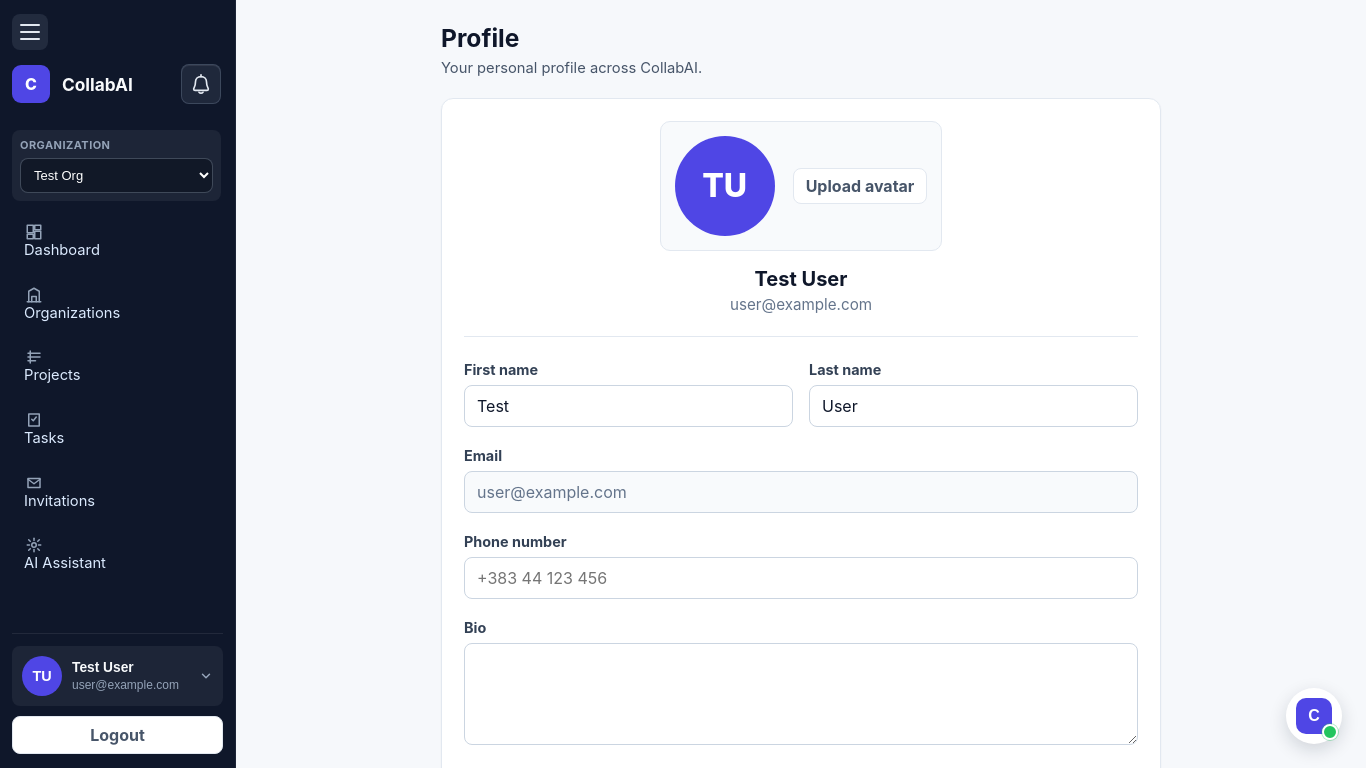
Profile settings › saves profile changes
Step 1. Replace the text in the field with id "first_name" with "Updated" → (629,406), box x1=464 y1=385 x2=793 y2=427
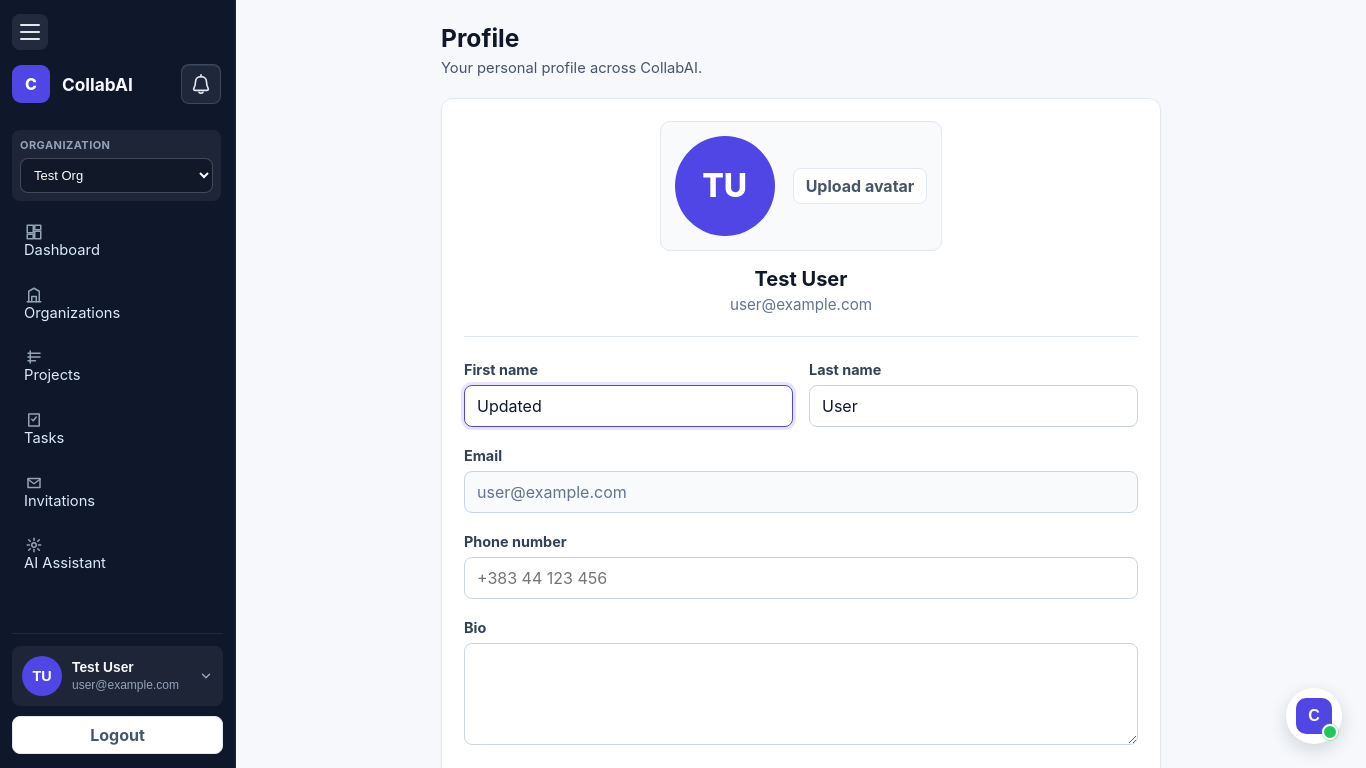
Step 2. Type "Focused on delivery" into the text box with id "bio" → (801,694), box x1=464 y1=643 x2=1138 y2=745
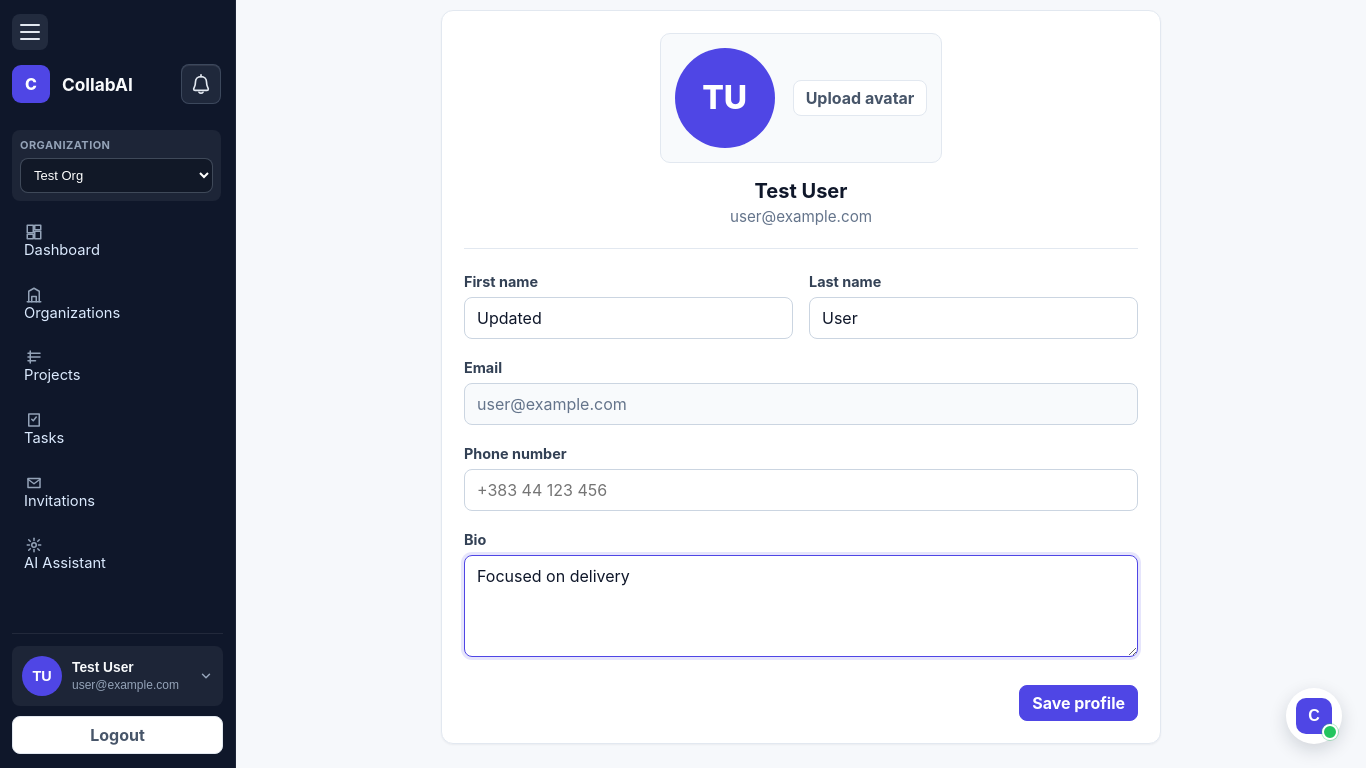
Step 3. Click the button "Save profile" → (1079,703), box x1=1019 y1=685 x2=1138 y2=721
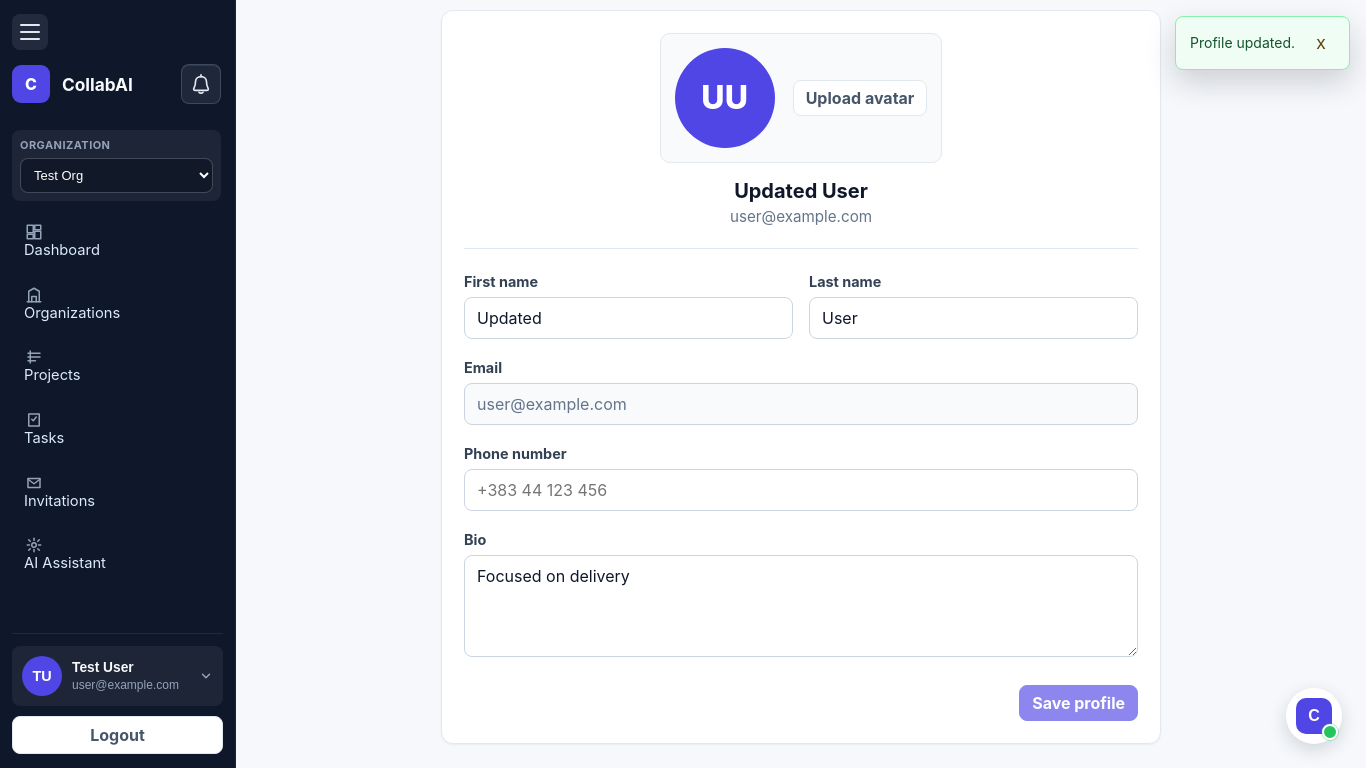
Now the text "Profile" is shown, box x1=1190 y1=34 x2=1295 y2=51
